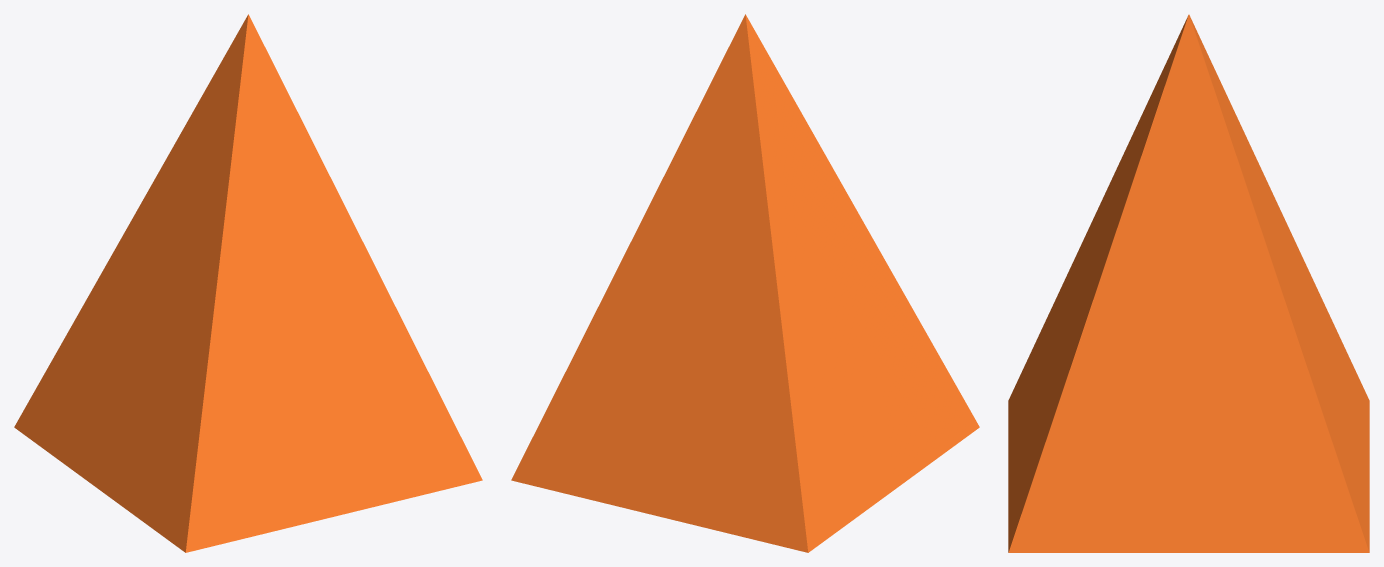
File: triangle1.fbx
The picture shows the model from 3 angles, left to right: view 1: azimuth 30°, elevation 25°; view 2: azimuth 150°, elevation 25°; view 3: azimuth 270°, elevation 25°; orthographic projection. The views are drawn at different scales.
Parts seen in each view (by area): view 1: root; view 2: root; view 3: root.
Part boxes in pixels (x1,y1,x2,y2): root: (14,14,482,552); root: (511,14,979,552); root: (1008,14,1369,552).
Size of the model in its own units: 0.2986 by 0.4223 by 0.2986.
Materials: 1 (1 with a texture image).
